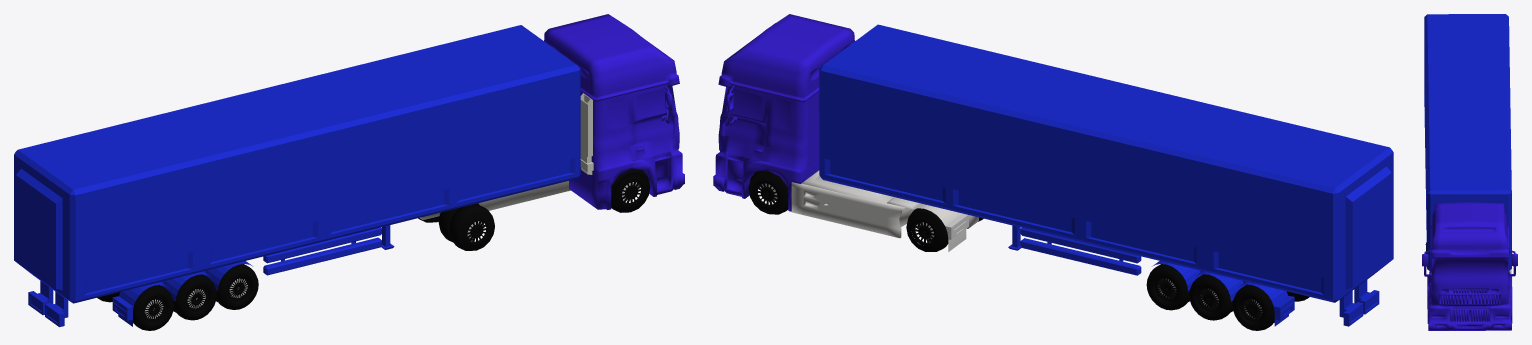
File: Truck.glb
3 views of the same model, side by side, from view 1: azimuth 30°, elevation 25°; view 2: azimuth 150°, elevation 25°; view 3: azimuth 270°, elevation 25° (orthographic). The views are drawn at different scales.
Visible parts, largest first — view 1: Cube, truck_daf, TrailerWheels, TruckRearWheels, TruckFrontWheels, truck_daf.003, cerobong_asp; view 2: Cube, truck_daf, truck_daf.003, TrailerWheels, TruckRearWheels, TruckFrontWheels; view 3: Cube, truck_daf.
Boxes of the visible parts, x1,y1,x2,y2 form: Cube: [14, 25, 580, 327]; truck_daf: [544, 14, 684, 209]; TrailerWheels: [97, 264, 258, 330]; TruckRearWheels: [418, 203, 494, 250]; TruckFrontWheels: [611, 168, 650, 212]; truck_daf.003: [419, 181, 570, 219]; cerobong_asp: [580, 93, 593, 174]; Cube: [819, 24, 1393, 326]; truck_daf: [713, 14, 854, 211]; truck_daf.003: [791, 170, 978, 251]; TrailerWheels: [1146, 264, 1309, 330]; TruckRearWheels: [906, 208, 983, 251]; TruckFrontWheels: [748, 170, 788, 214]; Cube: [1424, 14, 1511, 270]; truck_daf: [1422, 202, 1517, 330].
Size of the model in its own units: 19.69 by 4.9 by 3.68.
